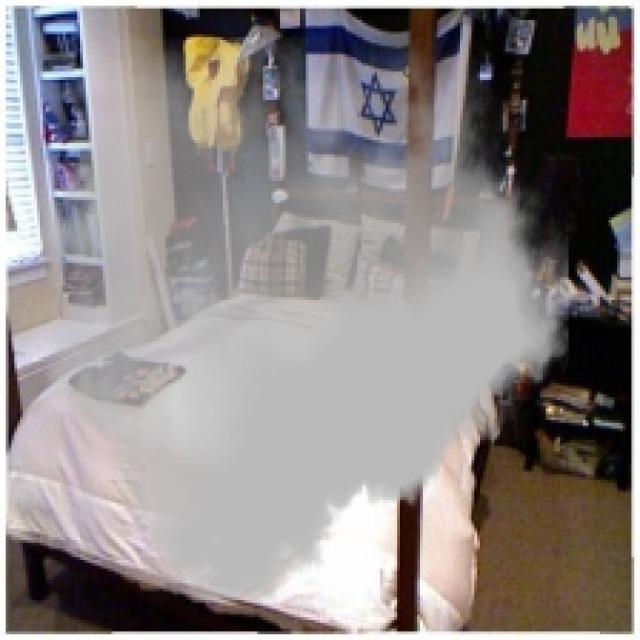Smoke: (37, 37, 569, 603)
